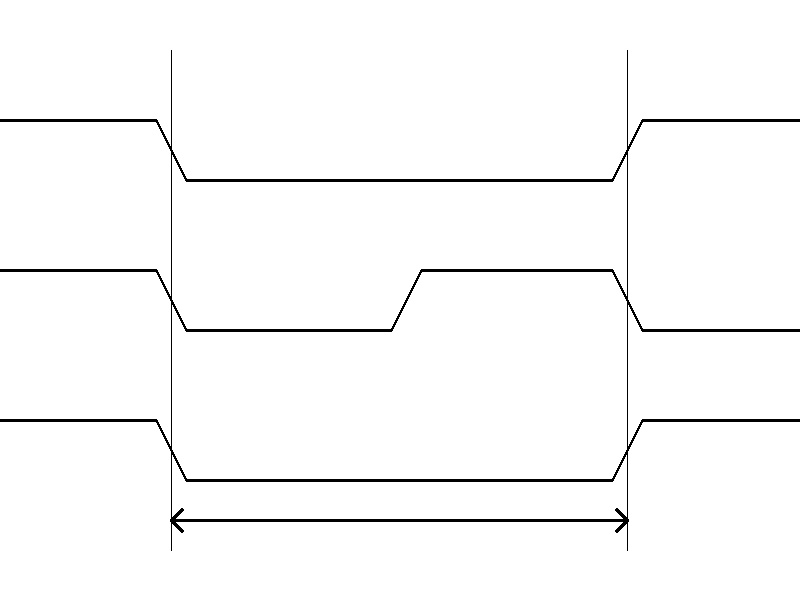double_arrow: (171, 505, 627, 535)
